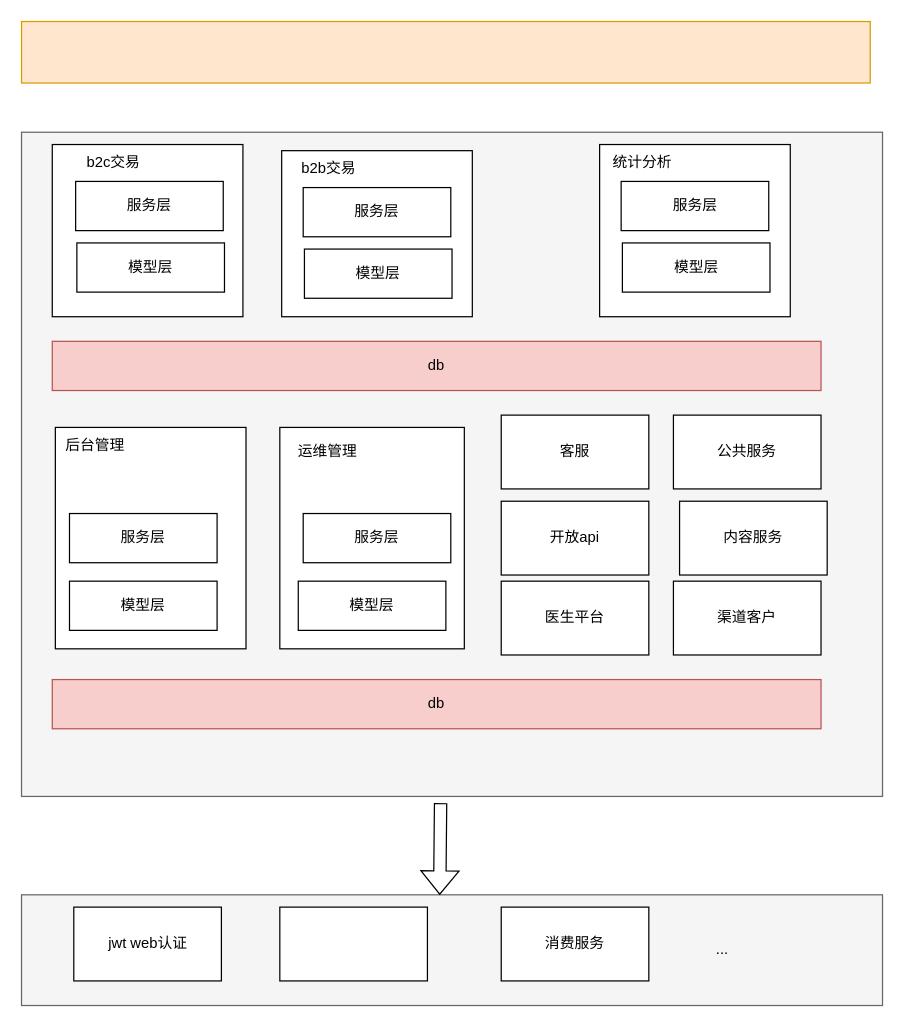
The diagram is 904 pixels wide and 1027 high, and some of its shapes have lost their labels. Each missing label, with the centre of its shape:
"任务调度" belongs at (353,943).
"界面层(App 、小程序、PC、h5）" belongs at (445,51).
